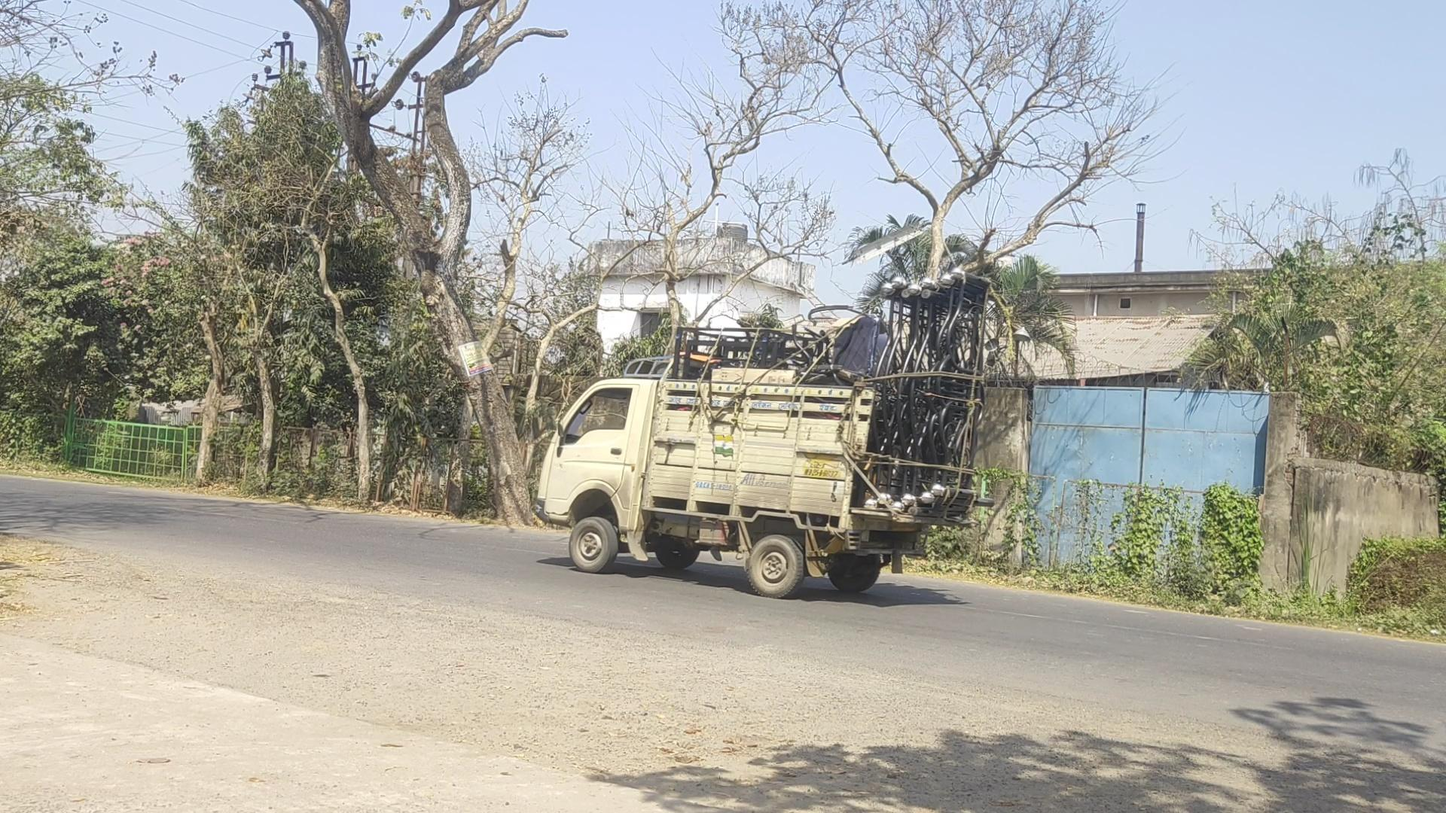van: (535, 269, 990, 598)
